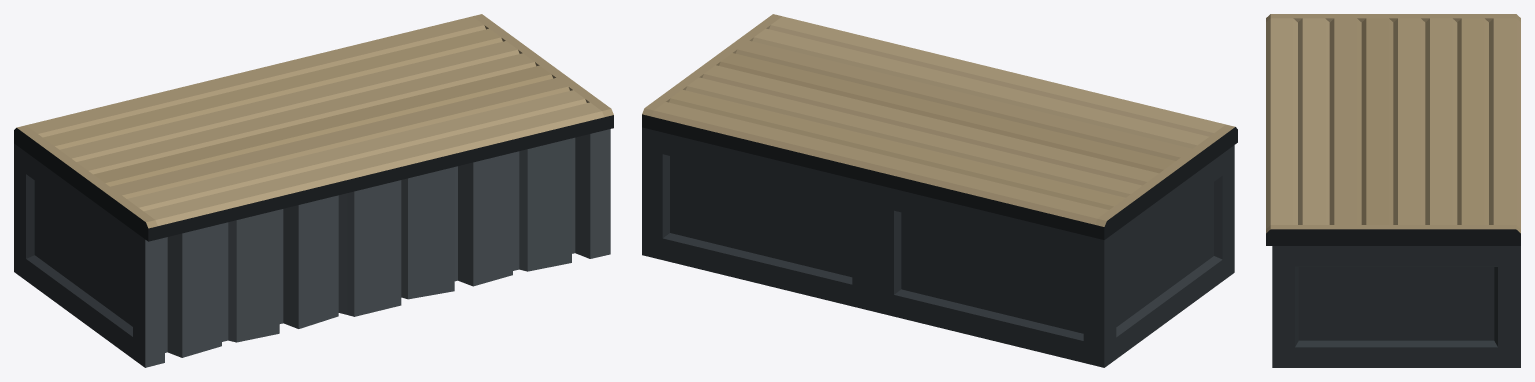
Rendered from hall-stage-deck-1f5a11.glb.
3 views of the same model, side by side, from view 1: azimuth 30°, elevation 25°; view 2: azimuth 150°, elevation 25°; view 3: azimuth 270°, elevation 25° (orthographic). The views are drawn at different scales.
Visible parts, largest first — view 1: stage-deck; view 2: stage-deck; view 3: stage-deck.
Boxes of the visible parts, left/top/right/bottom form: stage-deck: left=14, top=14, right=613, bottom=367; stage-deck: left=642, top=14, right=1237, bottom=367; stage-deck: left=1266, top=14, right=1520, bottom=367.
Size of the model in its own units: 2 by 0.6 by 1.
